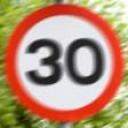speed_limit_30: (2, 2, 126, 123)
